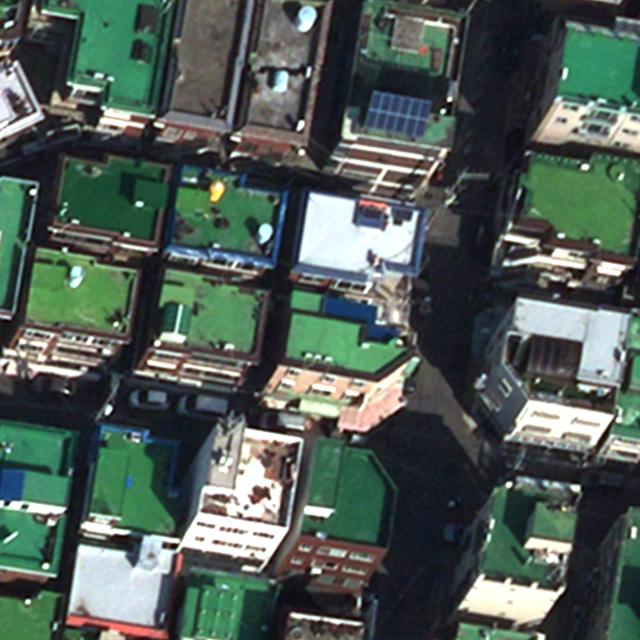panel: (363, 89, 437, 141)
